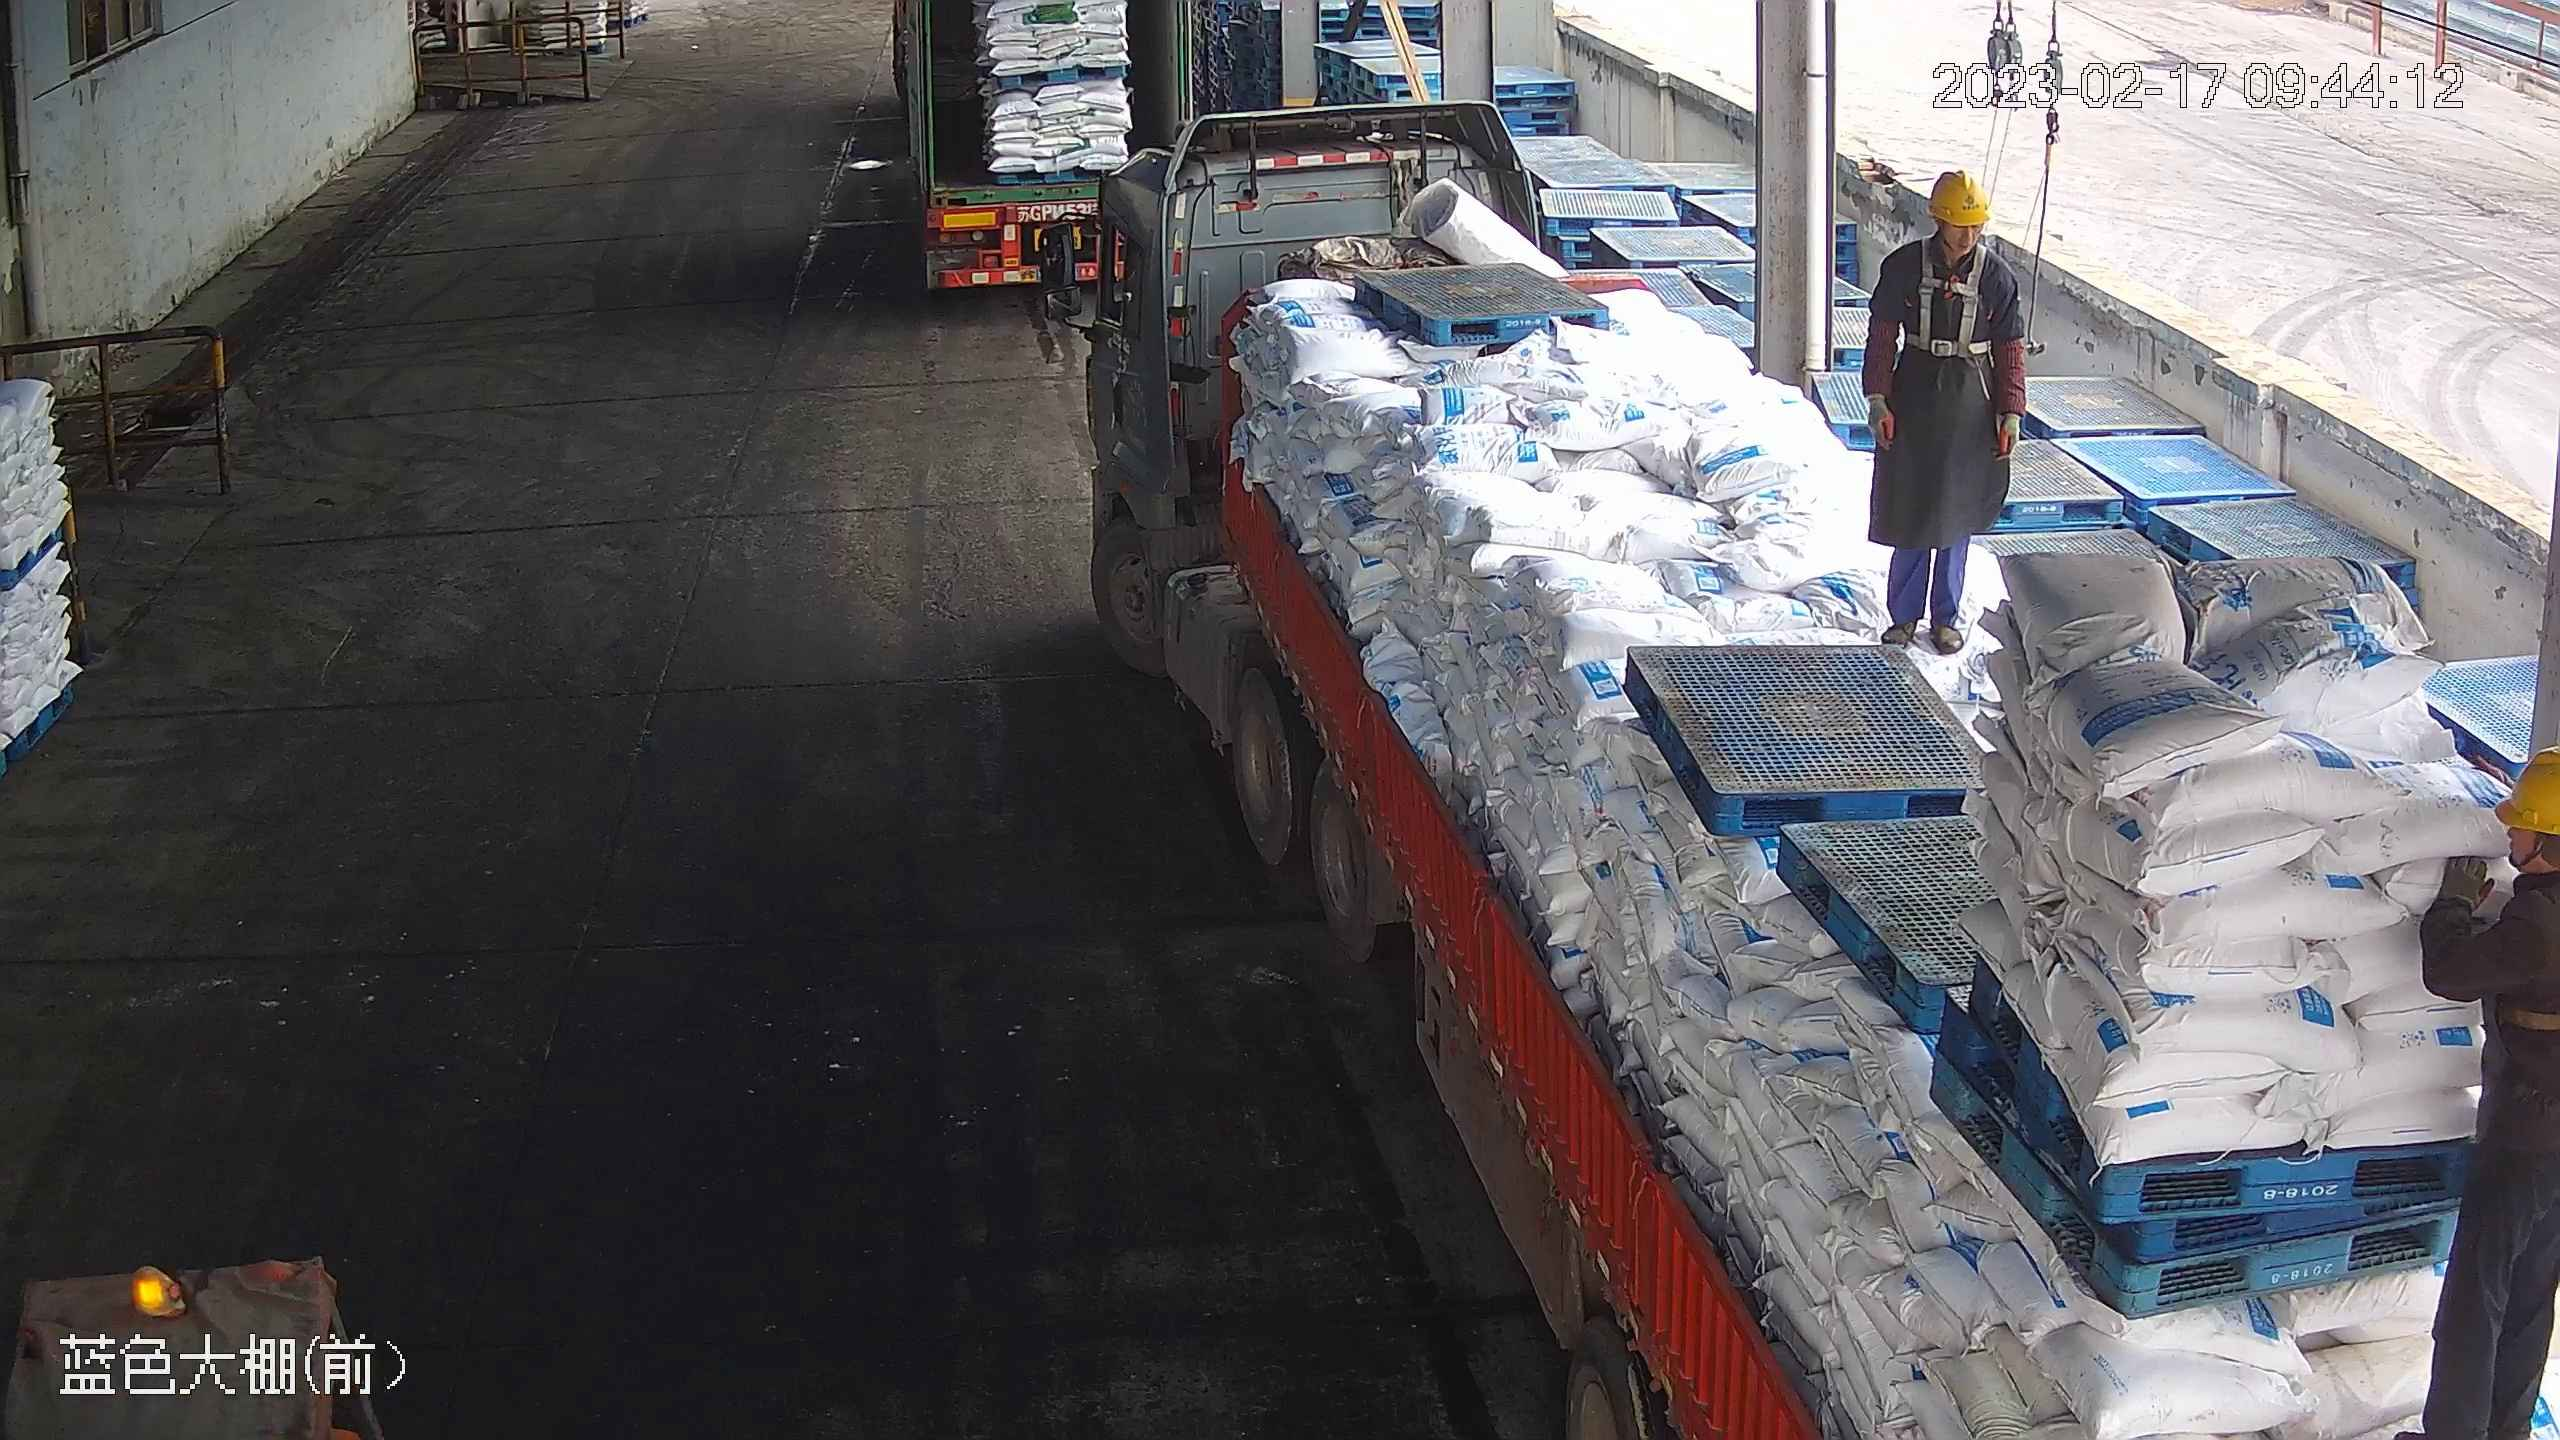belt: (1909, 229, 1999, 355)
head: (2427, 744, 2560, 980), (1873, 168, 2018, 299)
helmet: (2489, 744, 2560, 836), (1925, 164, 1992, 228)
people: (2422, 739, 2560, 1440), (1858, 164, 2029, 658)
truck: (1081, 90, 2556, 1440), (891, 1, 1203, 280)
